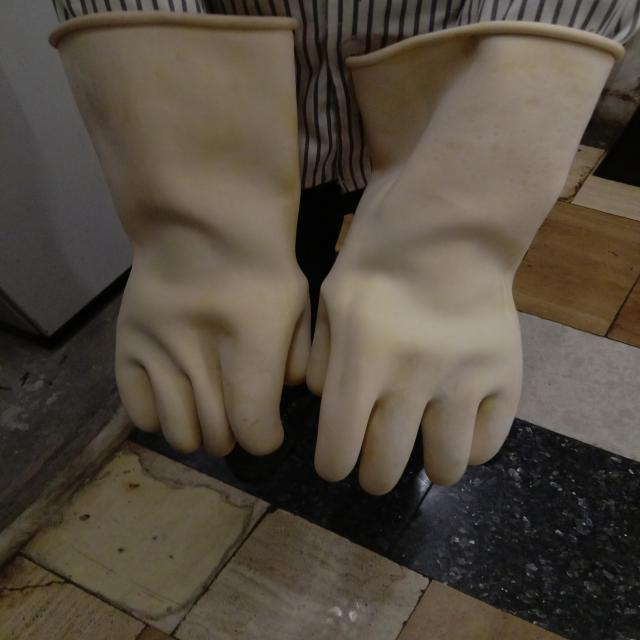Boots: (301, 16, 638, 504), (28, 9, 312, 490)
